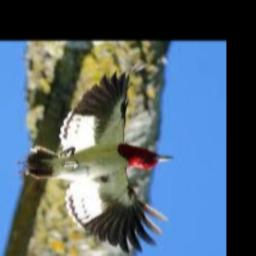Woodpecker: (18, 64, 174, 253)
